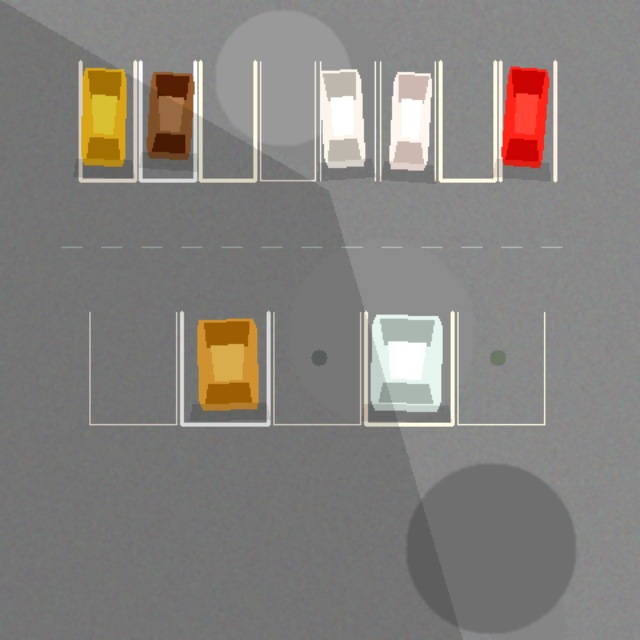space-empty: (89, 312, 176, 424), (273, 312, 360, 424), (457, 312, 544, 424), (200, 61, 255, 180), (260, 61, 315, 180), (440, 61, 495, 180)
space-occupied: (181, 312, 268, 424), (365, 312, 452, 424), (80, 61, 135, 180), (140, 61, 195, 180), (320, 61, 375, 180), (380, 61, 435, 180), (500, 61, 555, 180)
